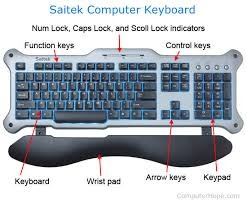keyboard: (10, 56, 237, 127)
